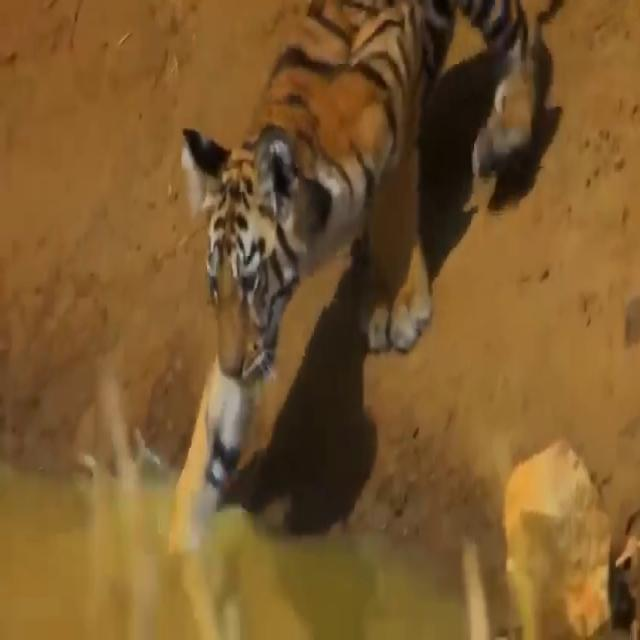tiger: (167, 0, 561, 497)
